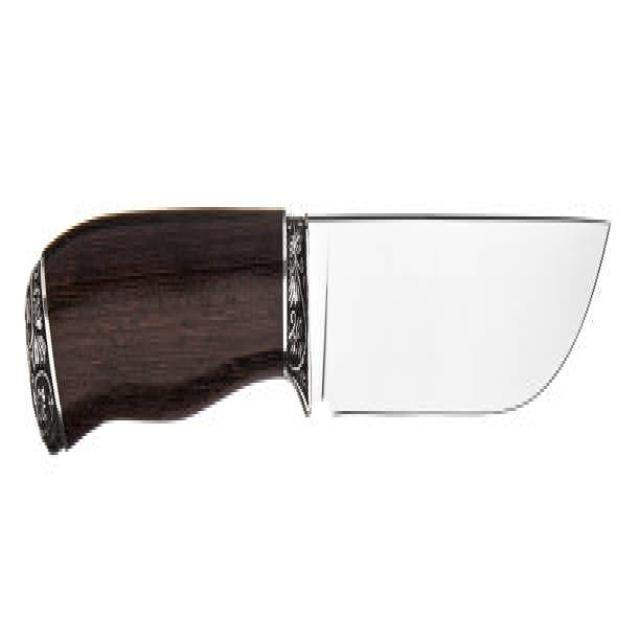knife: (24, 198, 616, 472)
